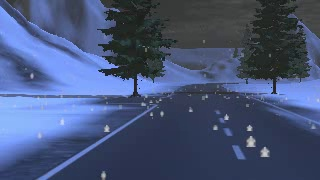Lane: (45, 82, 319, 179)
